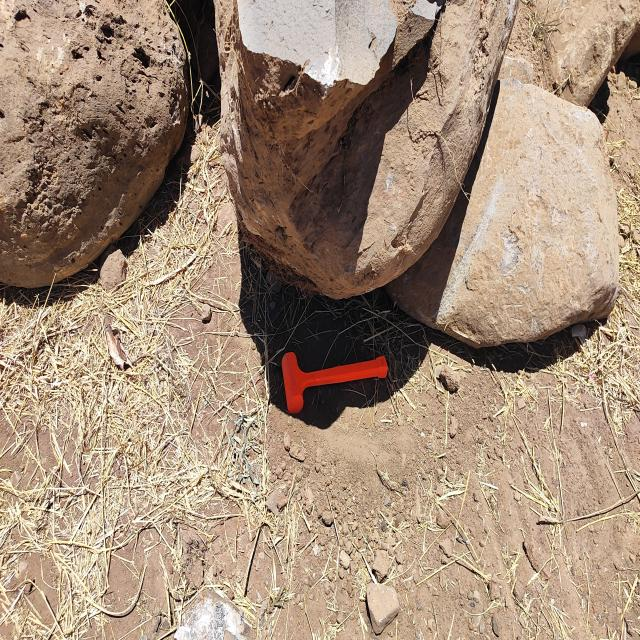Orange_hammer: (281, 350, 388, 415)
